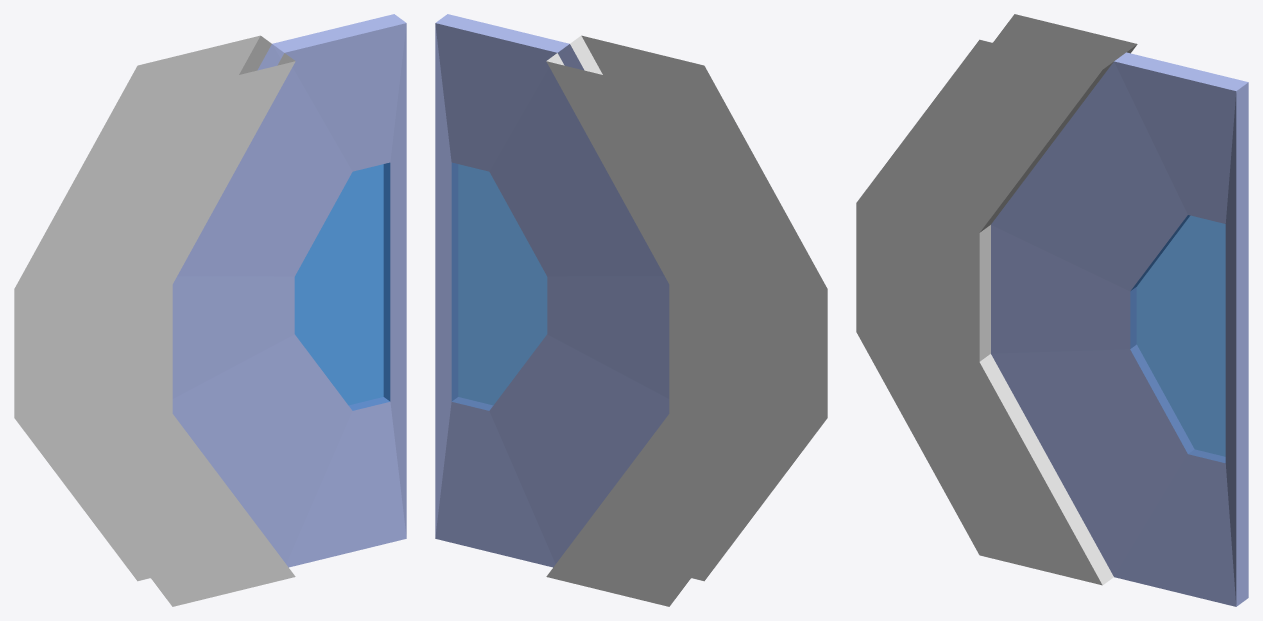
The model's file is space_door.fbx.
3 renders of one model, left to right at view 1: azimuth 30°, elevation 25°; view 2: azimuth 150°, elevation 25°; view 3: azimuth 330°, elevation 25°, orthographic.
Visible parts, largest first — view 1: door, doorway; view 2: door, doorway; view 3: door, doorway.
Part boxes in pixels (left/top/right/bottom): door: left=172, top=14, right=406, bottom=567; doorway: left=14, top=35, right=295, bottom=606; door: left=435, top=14, right=669, bottom=567; doorway: left=546, top=35, right=827, bottom=606; door: left=991, top=52, right=1248, bottom=606; doorway: left=856, top=14, right=1137, bottom=585.
Bounding box in the file's own units: 299 × 400 × 49.29.
